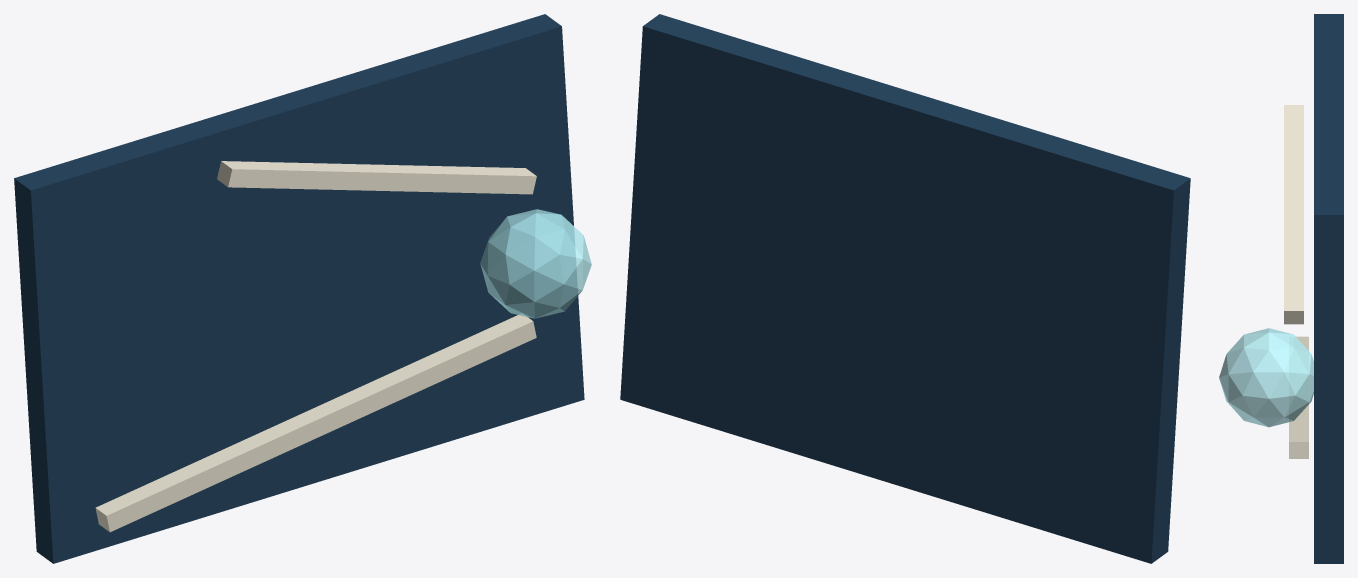
The model's file is 02_world_prop_polish.glb.
The picture shows the model from 3 angles, left to right: view 1: azimuth 30°, elevation 25°; view 2: azimuth 150°, elevation 25°; view 3: azimuth 270°, elevation 25°; orthographic projection. The views are drawn at different scales.
Visible parts, largest first — view 1: object_overlay_plate, edge_wear_a, glow_socket, edge_wear_b; view 2: object_overlay_plate; view 3: object_overlay_plate, glow_socket, edge_wear_b, edge_wear_a.
Part boxes in pixels (<box>): object_overlay_plate: <box>14,14,584,563</box>; edge_wear_a: <box>95,314,536,532</box>; glow_socket: <box>480,209,591,318</box>; edge_wear_b: <box>217,161,536,194</box>; object_overlay_plate: <box>620,14,1190,563</box>; object_overlay_plate: <box>1314,14,1343,563</box>; glow_socket: <box>1219,328,1313,427</box>; edge_wear_b: <box>1284,105,1303,324</box>; edge_wear_a: <box>1289,336,1308,458</box>.
Bounding box in the file's own units: 1.14 × 0.817 × 0.25.
